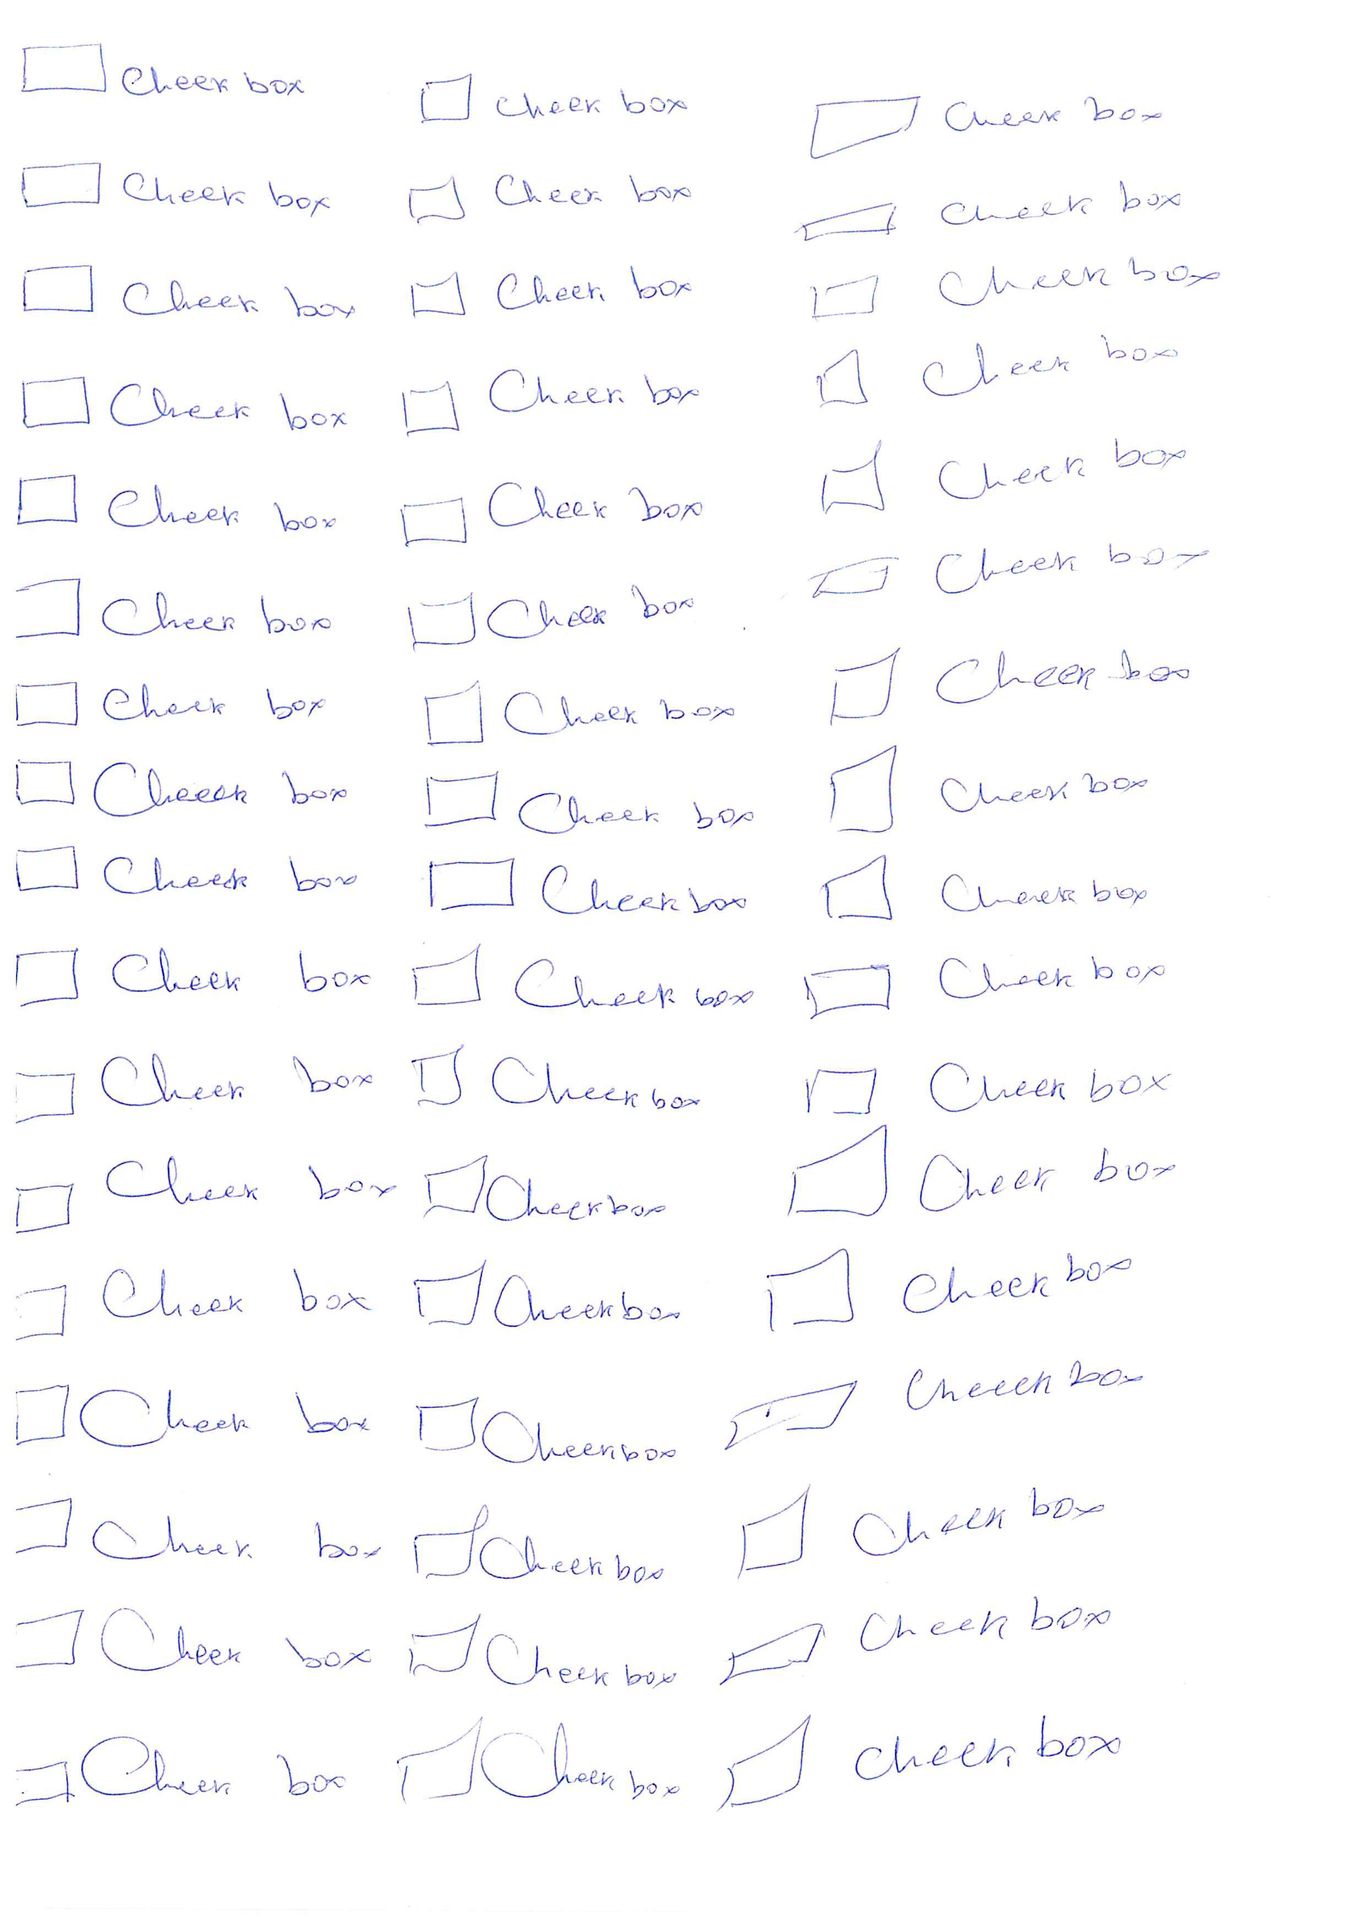Check Box: (13, 1161, 399, 1236), (826, 747, 1158, 834), (823, 646, 1192, 722), (801, 1053, 1177, 1119), (806, 92, 1166, 160), (16, 259, 361, 330), (418, 677, 742, 753), (822, 855, 1152, 926), (418, 769, 754, 838), (801, 951, 1166, 1014), (414, 1041, 710, 1119), (424, 855, 752, 924), (10, 753, 350, 819), (13, 472, 341, 540), (12, 940, 376, 1001), (398, 364, 699, 436), (16, 371, 352, 435), (10, 841, 367, 900), (398, 479, 711, 546), (411, 952, 761, 1011), (19, 157, 333, 222), (414, 1396, 682, 1470), (421, 1158, 676, 1232), (407, 586, 701, 649), (410, 1264, 684, 1332), (12, 676, 334, 730), (16, 41, 307, 101), (415, 67, 692, 126), (402, 169, 701, 223), (404, 269, 699, 316)
